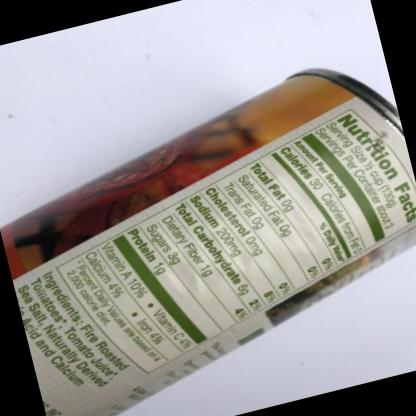Metal: (1, 69, 416, 416)
